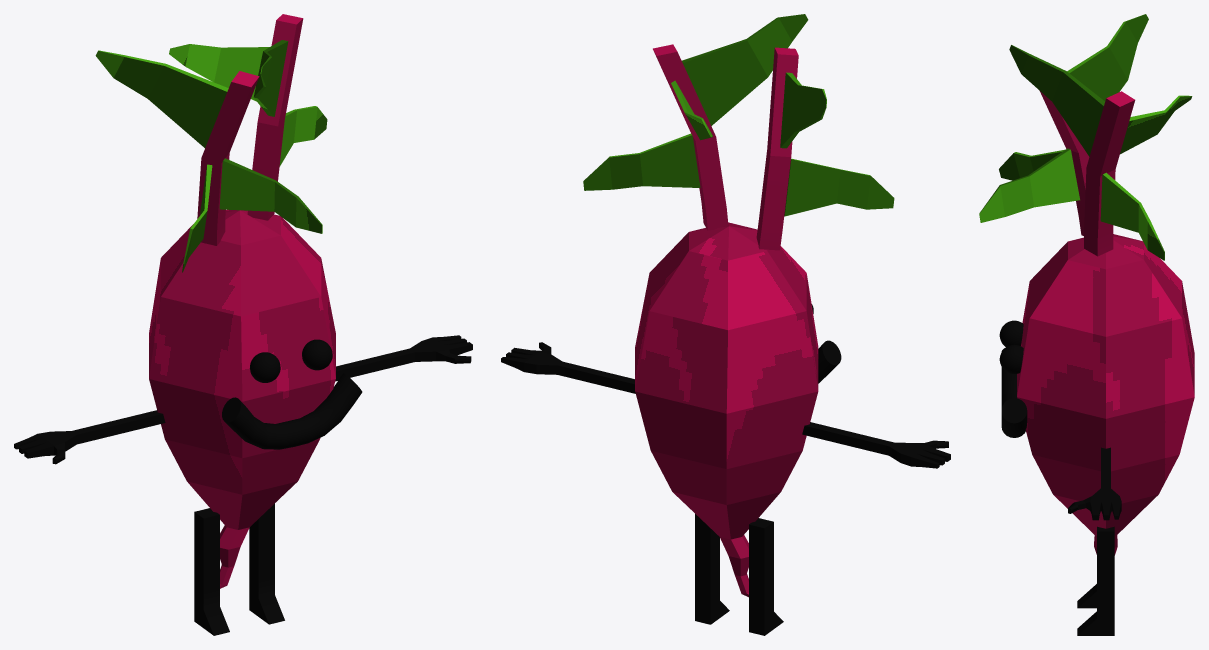
File: BeetrootSan.glb
3 views of the same model, side by side, from view 1: azimuth 30°, elevation 25°; view 2: azimuth 150°, elevation 25°; view 3: azimuth 270°, elevation 25° (orthographic). The views are drawn at different scales.
Parts seen in each view (by area): view 1: Mesh_2, Mesh_7, Mesh_4, Mesh_3, Mesh_1, Mesh_0, Mesh_6, Mesh_5; view 2: Mesh_2, Mesh_4, Mesh_1, Mesh_3, Mesh_0, Mesh_7; view 3: Mesh_2, Mesh_3, Mesh_0, Mesh_7, Mesh_6, Mesh_5, Mesh_4.
Part boxes in pixels (x1=…): Mesh_2: x1=95, y1=14, x2=335, y2=588; Mesh_7: x1=222, y1=373, x2=362, y2=449; Mesh_4: x1=194, y1=508, x2=229, y2=635; Mesh_3: x1=249, y1=503, x2=284, y2=624; Mesh_1: x1=14, y1=410, x2=165, y2=464; Mesh_0: x1=335, y1=335, x2=472, y2=381; Mesh_6: x1=302, y1=339, x2=332, y2=370; Mesh_5: x1=250, y1=352, x2=280, y2=382; Mesh_2: x1=583, y1=14, x2=894, y2=597; Mesh_4: x1=749, y1=518, x2=783, y2=635; Mesh_1: x1=802, y1=422, x2=950, y2=468; Mesh_3: x1=695, y1=514, x2=729, y2=624; Mesh_0: x1=501, y1=342, x2=635, y2=393; Mesh_7: x1=818, y1=340, x2=841, y2=383; Mesh_2: x1=979, y1=14, x2=1194, y2=555; Mesh_3: x1=1077, y1=526, x2=1114, y2=635; Mesh_0: x1=1068, y1=447, x2=1121, y2=520; Mesh_7: x1=1001, y1=348, x2=1027, y2=437; Mesh_6: x1=999, y1=344, x2=1023, y2=373; Mesh_5: x1=999, y1=320, x2=1023, y2=346; Mesh_4: x1=1077, y1=584, x2=1096, y2=608.
Bounding box in the file's own units: 193 × 246 × 85.17.
2 materials, 1 textured.
